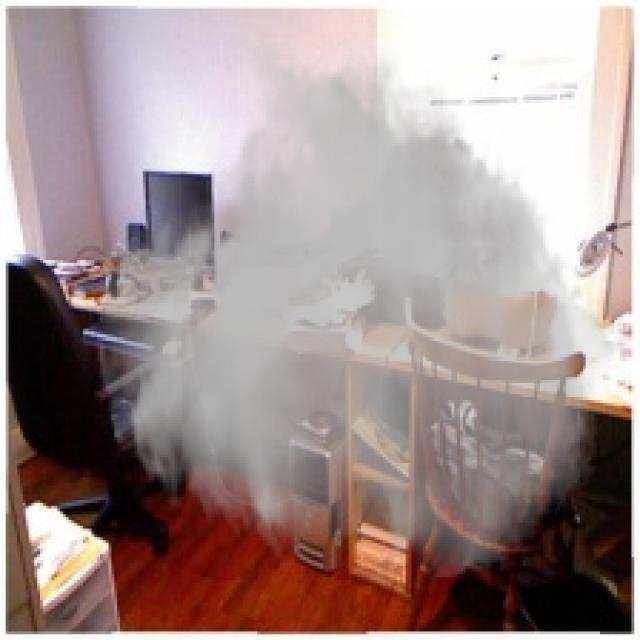Smoke: (91, 34, 628, 583)
